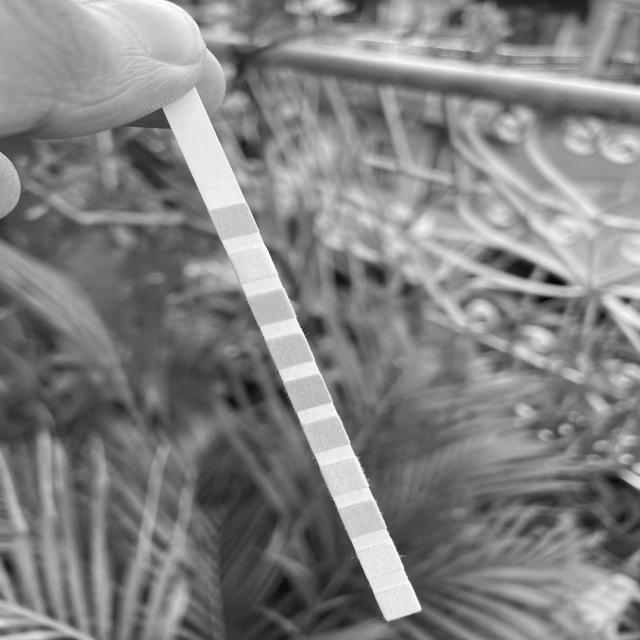Bilirubin: (239, 255, 268, 275)
Blood: (292, 382, 323, 404)
Glucose: (219, 210, 248, 230)
Ketone: (255, 297, 285, 317)
Leukocytes: (385, 593, 412, 613)
Nitrite: (366, 552, 395, 570)
Protein: (329, 468, 359, 488)
SpGravity: (274, 339, 304, 362)
Urobilinogen: (348, 509, 378, 528)
background: (0, 0, 640, 640)
pH: (310, 424, 340, 445)
strip: (165, 95, 421, 623)
